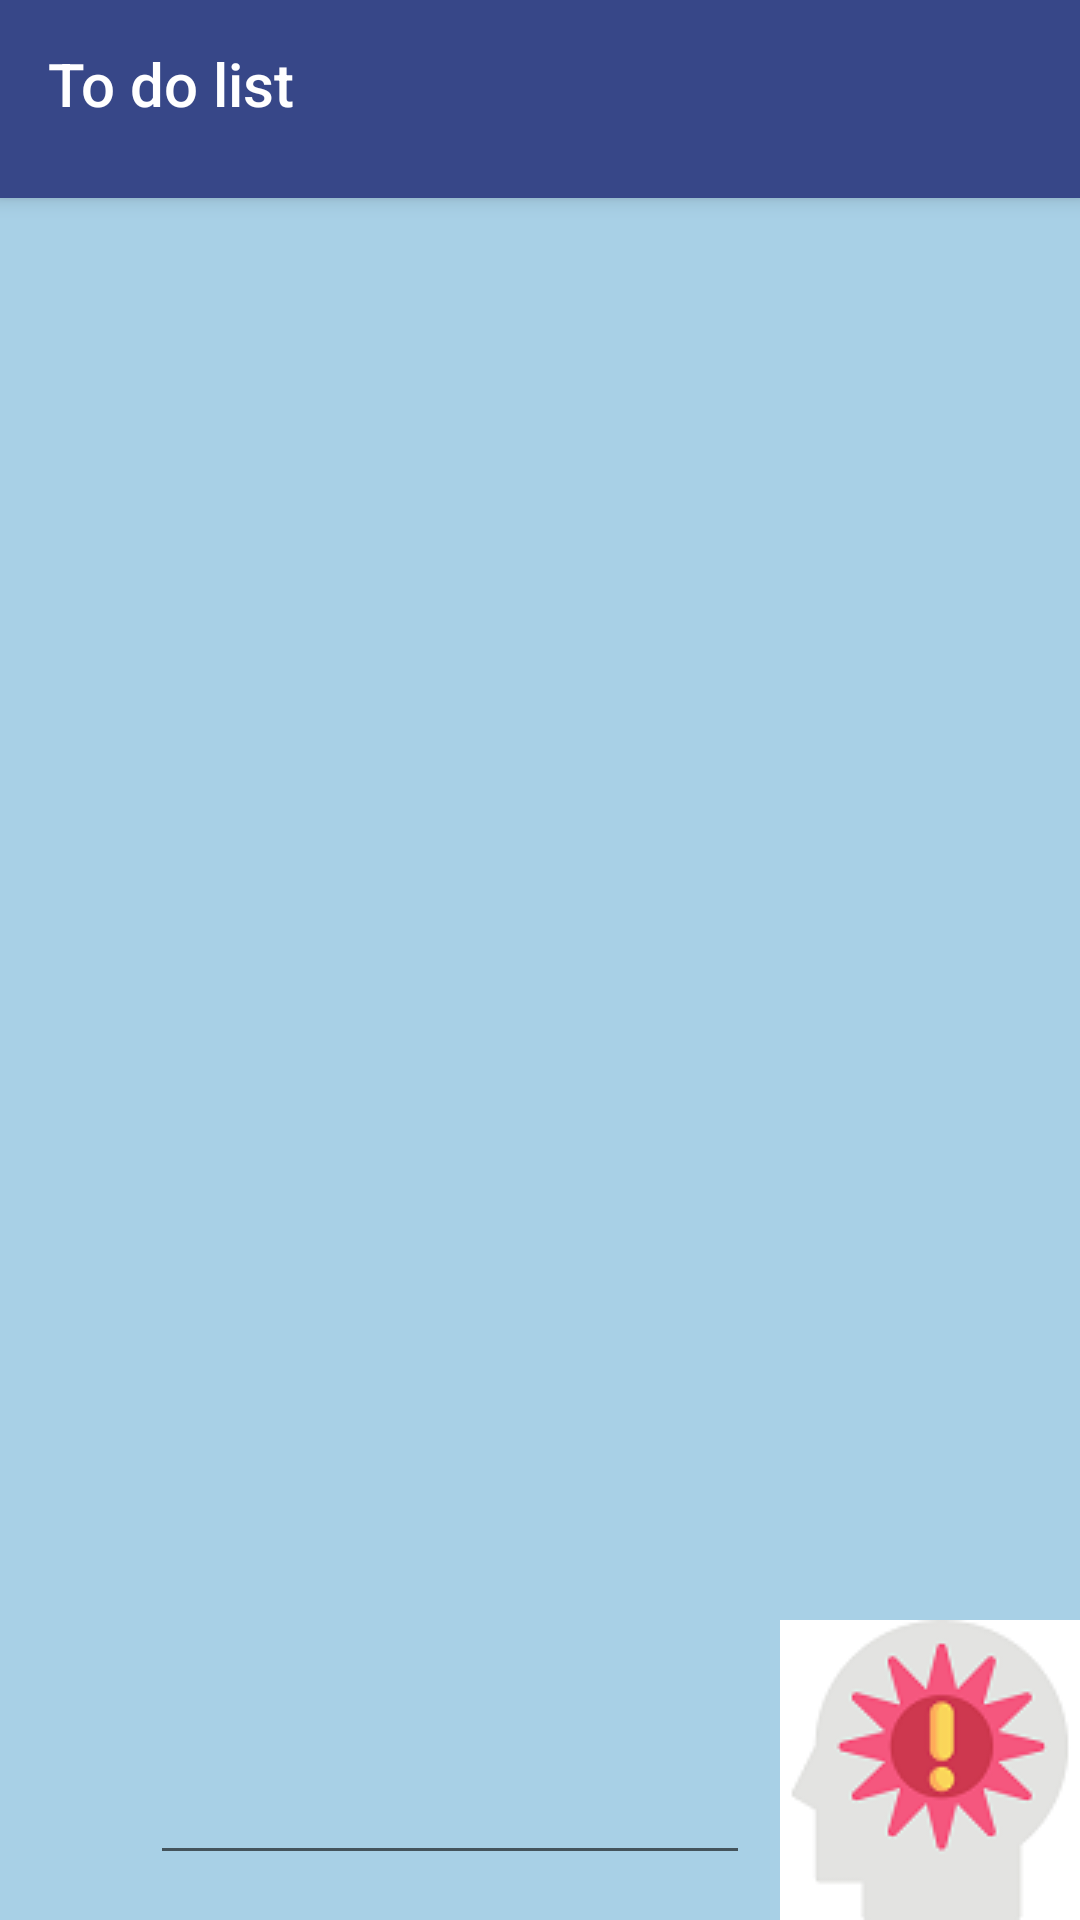

Icon click points for this 1080×1920 phone screenshot, format (x,y):
panic: (930,1770)
